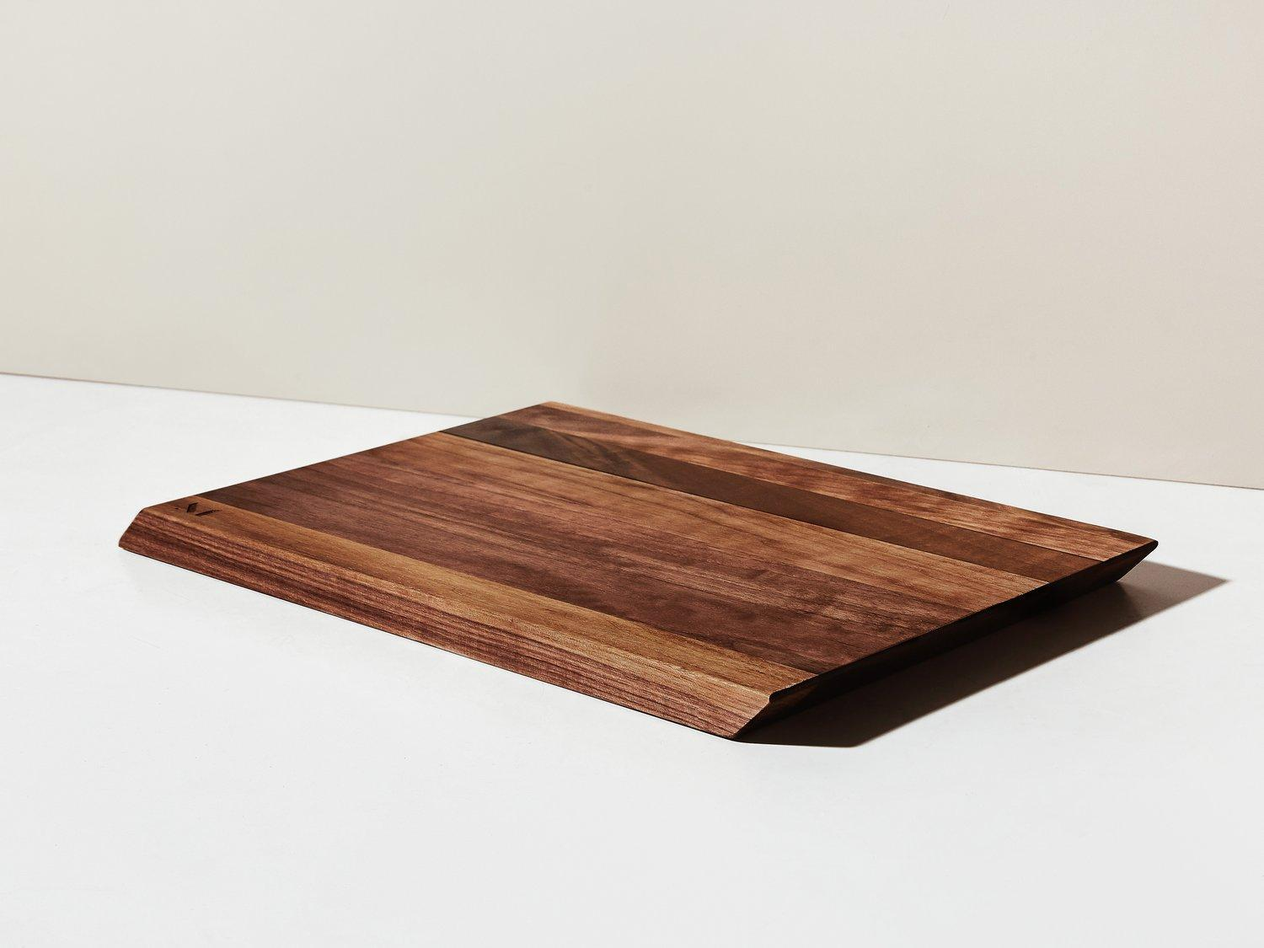gloved_hand: (114, 390, 1165, 736)
